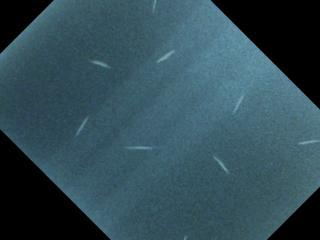scratch: (72, 111, 99, 141), (205, 149, 232, 178), (147, 46, 176, 67), (119, 141, 160, 155), (84, 54, 114, 72), (228, 91, 245, 118), (145, 0, 162, 16), (294, 138, 320, 146), (179, 230, 192, 240)
